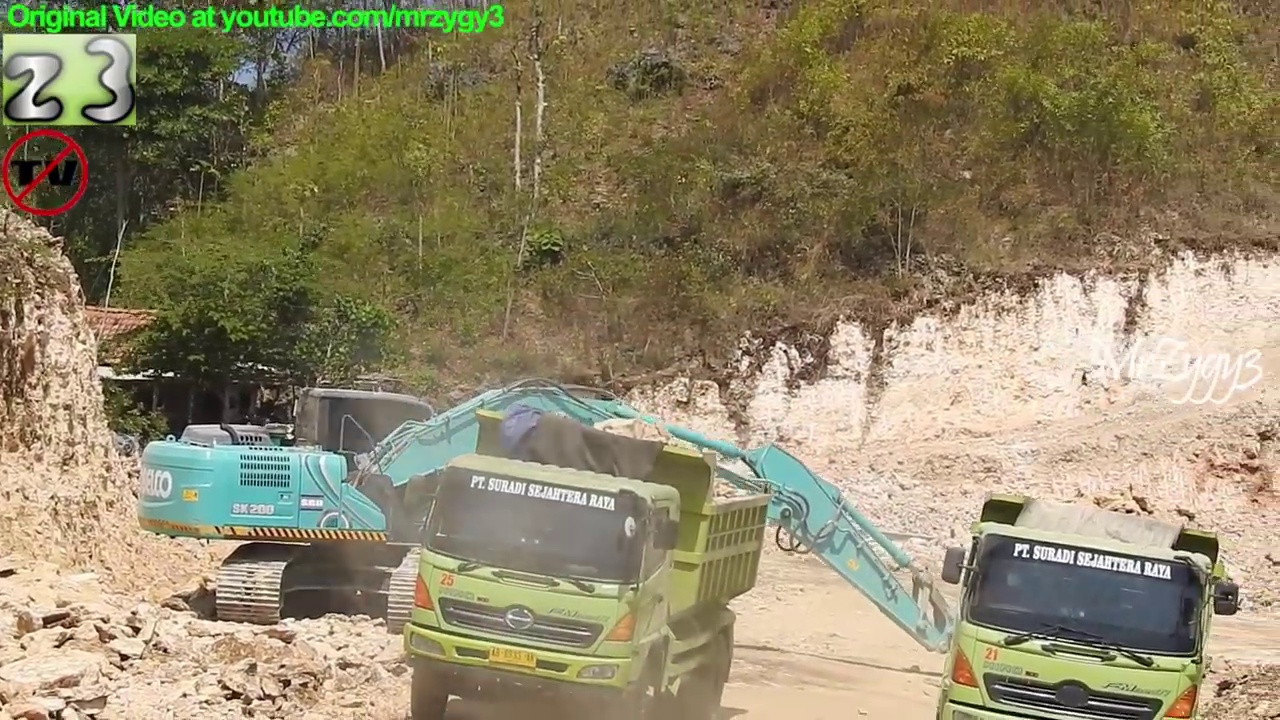excavator: (130, 372, 1103, 696)
truck: (396, 403, 776, 720), (927, 486, 1243, 720)
